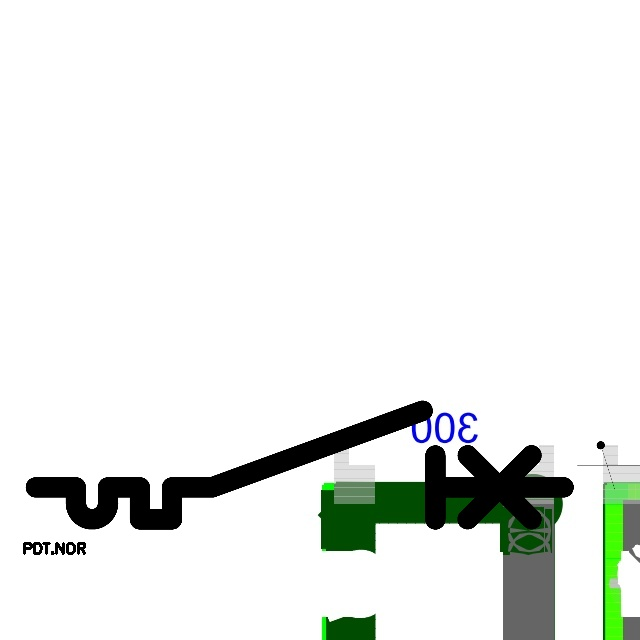interruptor_termomagnetico: (22, 397, 577, 533)
